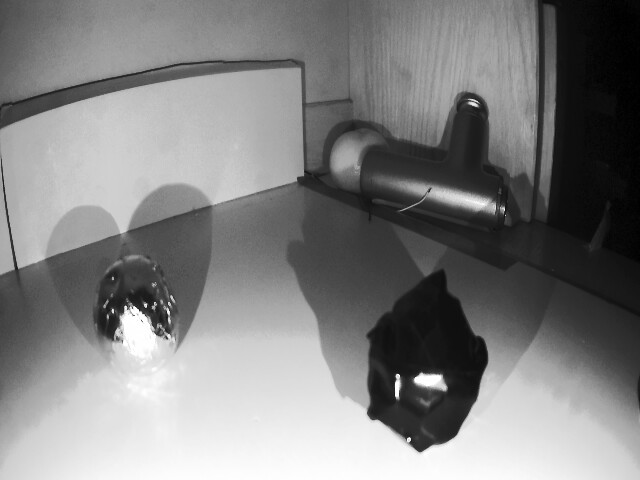black: (89, 256, 184, 383)
silver: (366, 273, 486, 455)
